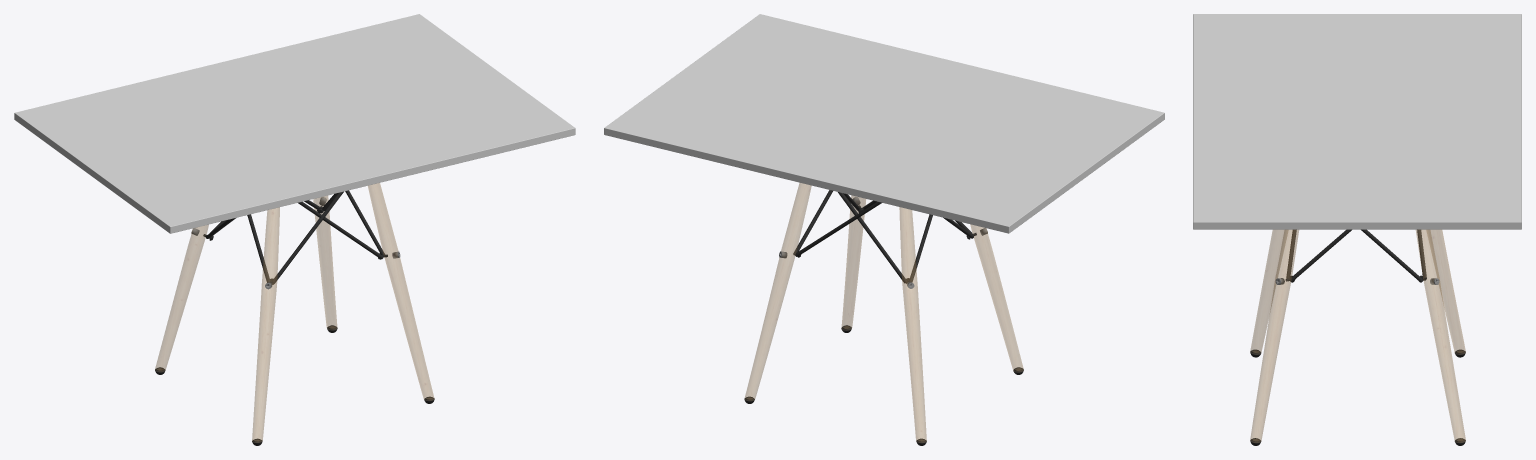
The picture shows the model from 3 angles, left to right: view 1: azimuth 30°, elevation 25°; view 2: azimuth 150°, elevation 25°; view 3: azimuth 270°, elevation 25°; orthographic projection. The views are drawn at different scales.
Visible parts, largest first — view 1: ET_ElfTable; view 2: ET_ElfTable; view 3: ET_ElfTable.
Part boxes in pixels (x1=…): ET_ElfTable: x1=14, y1=14, x2=575, y2=445; ET_ElfTable: x1=604, y1=14, x2=1164, y2=445; ET_ElfTable: x1=1193, y1=14, x2=1521, y2=445.
Size of the model in its own units: 1.2 by 0.76 by 0.8.
4 materials, 1 textured.
